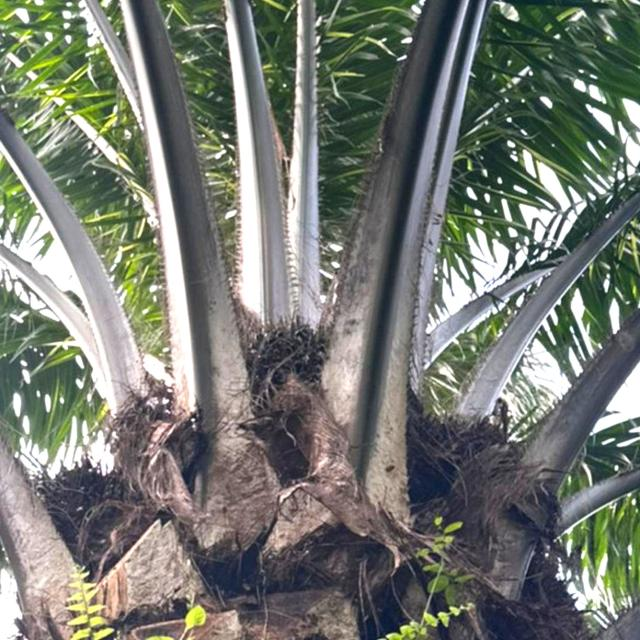unripe: (32, 460, 141, 552), (247, 318, 336, 408)
